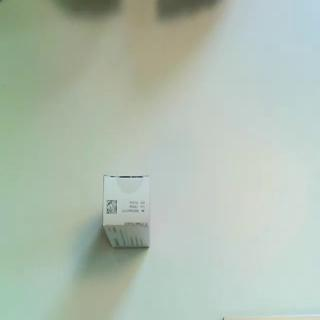apodonorm5mg: (101, 173, 153, 251)
